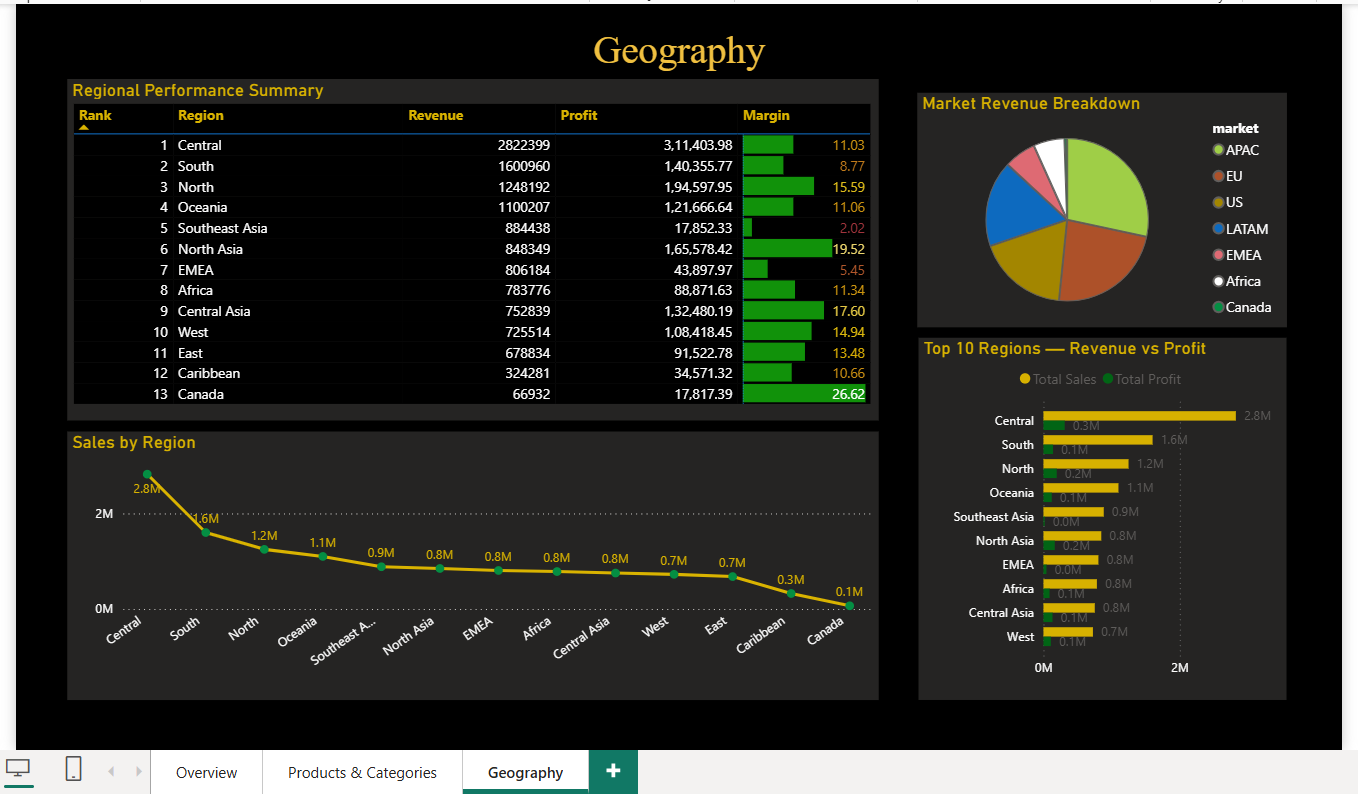

The page's visual inventory and layout, read from the dashboard file:
{"tool":"powerbi","page":{"name":"Geography","canvas":[1280,720],"ordinal":2},"visuals":[{"type":"textbox","box":[0,0,1280,72.4],"z":0},{"type":"clusteredBarChart","title":"Top 10 Regions — Revenue vs Profit","fields":{"Y":["cleaned_superstore.Total Sales","cleaned_superstore.Total Profit"],"Category":["cleaned_superstore.region"]},"box":[871.4,322.5,355.4,349.9],"z":1000},{"type":"pieChart","title":"Market Revenue Breakdown","fields":{"Category":["cleaned_superstore.market"],"Y":["cleaned_superstore.Total Sales"]},"box":[870,85.1,356.8,226.4],"z":2000},{"type":"tableEx","title":"Regional Performance Summary","fields":{"Values":["cleaned_superstore.Region Rank","cleaned_superstore.region","cleaned_superstore.Total Sales","cleaned_superstore.Total Profit","cleaned_superstore.Profit Margin"]},"box":[49.5,72.4,783,329.4],"z":3000},{"type":"lineChart","title":"Sales by Region","fields":{"Category":["cleaned_superstore.region"],"Y":["Sum(cleaned_superstore.sales)"]},"box":[49.5,412.6,783,259.4],"z":3001}]}

Visuals, with their boxes on the page's 1280x720 design canvas (x1, y1, x2, y2). These are canvas units, not pixel positions in the 1358x794 screenshot, which may show the page scaled, cropped or inside an application window:
textbox: detection(0, 0, 1280, 72)
"Top 10 Regions — Revenue vs Profit" clusteredBarChart: detection(871, 322, 1227, 672)
"Market Revenue Breakdown" pieChart: detection(870, 85, 1227, 312)
"Regional Performance Summary" tableEx: detection(50, 72, 832, 402)
"Sales by Region" lineChart: detection(50, 413, 832, 672)
